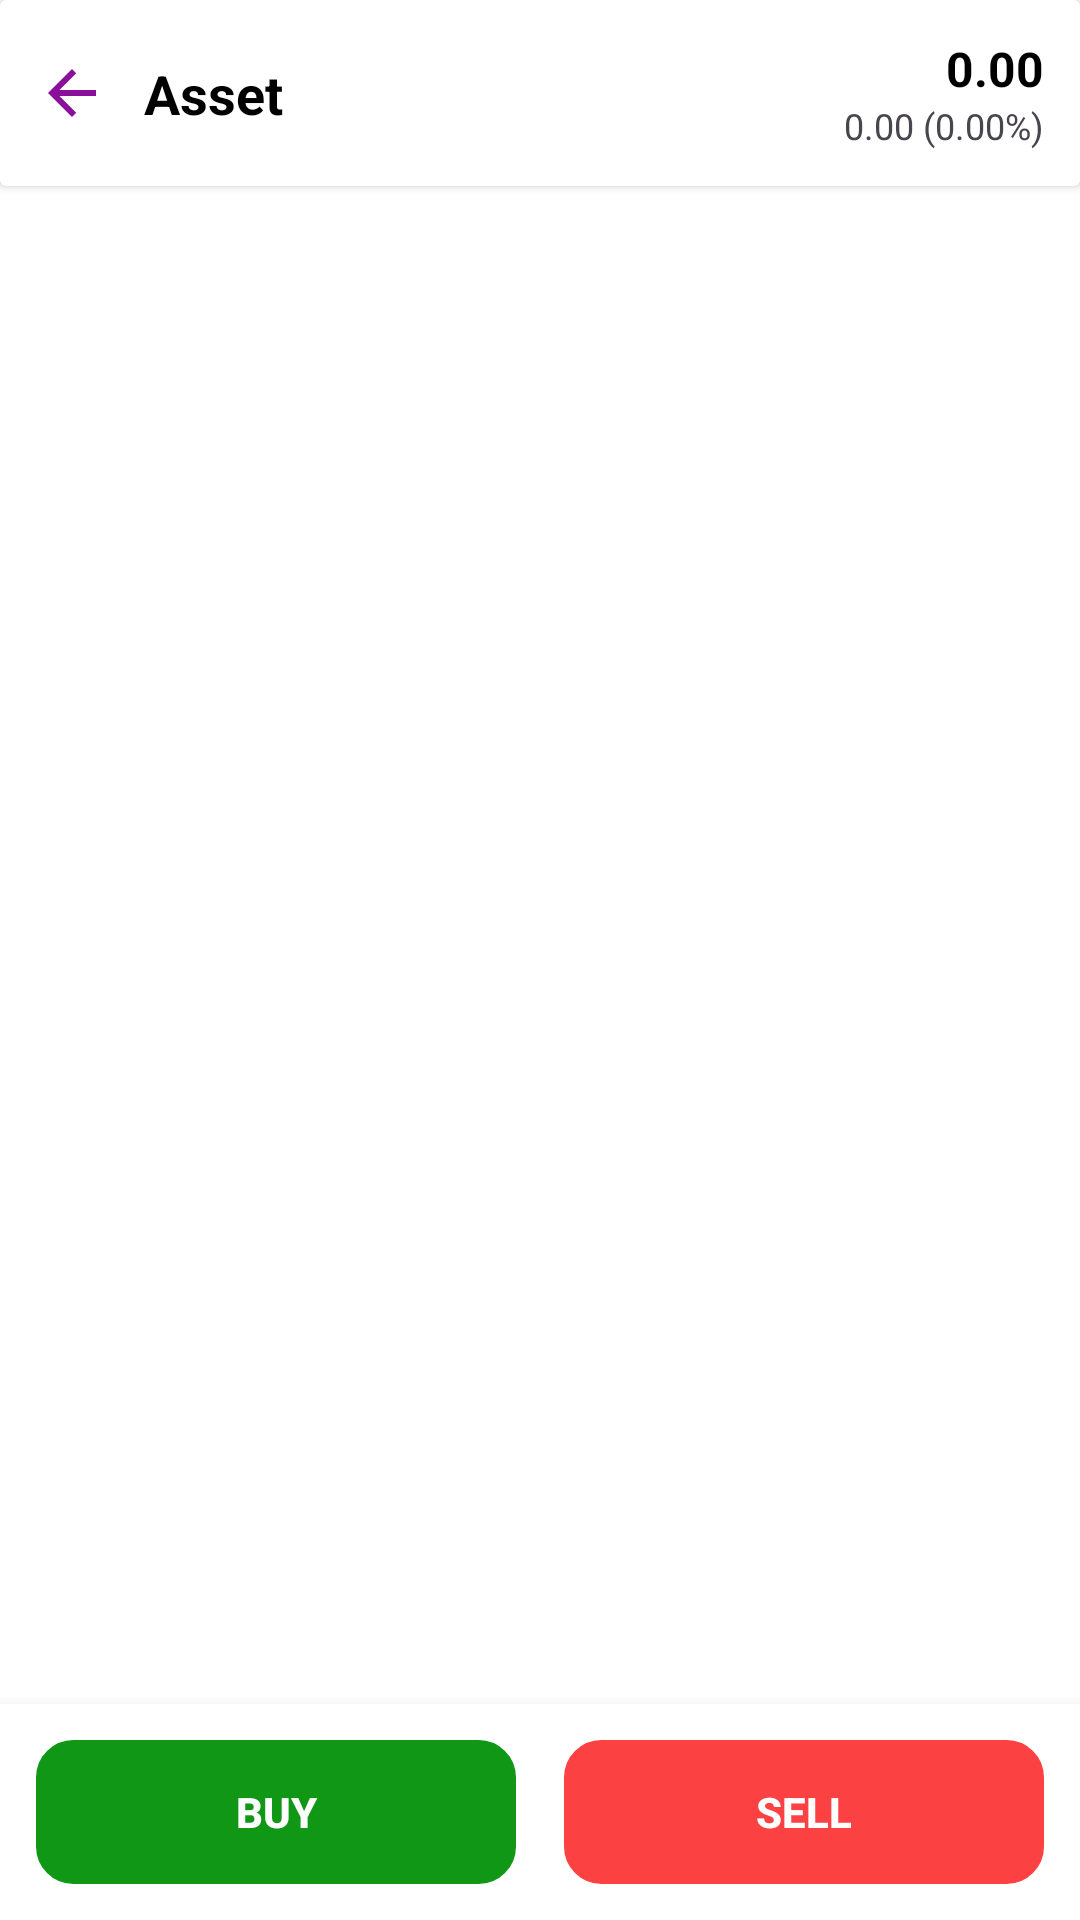

Icon click points for this 1080 × 1920 phone screenshot, format point (x, y):
back: point (72, 93)
